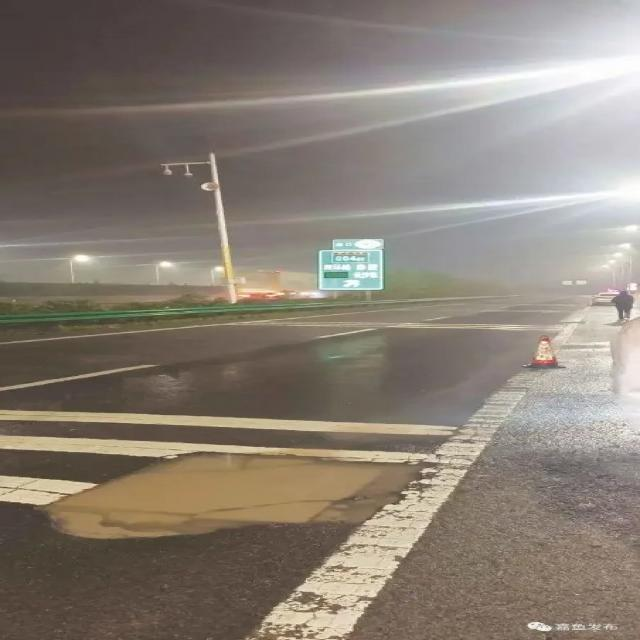Buraco: (30, 450, 424, 545)
